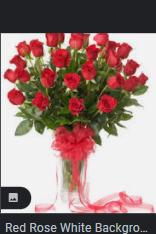RedRose: (97, 94, 123, 115), (30, 94, 55, 111), (8, 53, 33, 70), (8, 87, 29, 106), (47, 53, 72, 68), (79, 64, 101, 81), (40, 69, 58, 89), (42, 29, 63, 45), (31, 41, 47, 60), (63, 75, 83, 90), (67, 98, 84, 115), (15, 37, 31, 55), (4, 69, 22, 84), (107, 77, 130, 88), (93, 29, 107, 46), (105, 49, 119, 66), (126, 58, 138, 77), (129, 81, 144, 95), (71, 35, 86, 49), (117, 40, 131, 55), (138, 75, 154, 88), (86, 47, 101, 59)
